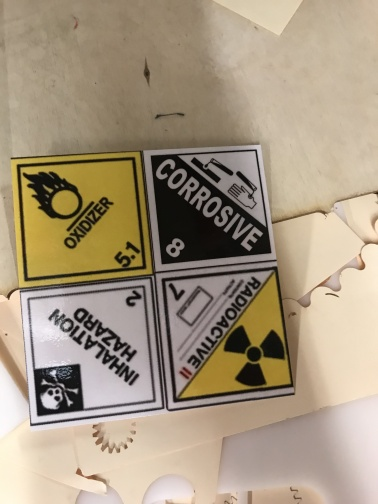Corrosive: (144, 144, 277, 269)
InhalationHazard: (21, 276, 166, 426)
Oxidizer: (10, 152, 155, 287)
Radioactive: (155, 261, 294, 413)
